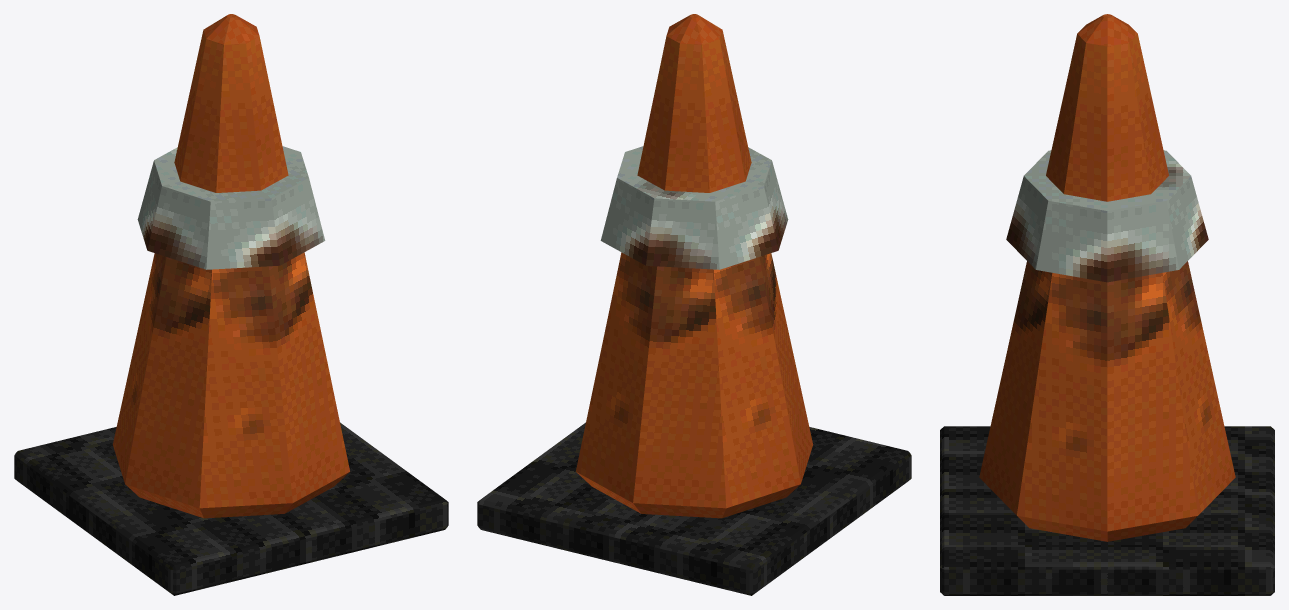
Rendered from prop_traffic_cone.glb.
3 renders of one model, left to right at view 1: azimuth 30°, elevation 25°; view 2: azimuth 150°, elevation 25°; view 3: azimuth 270°, elevation 25°, orthographic. The views are drawn at different scales.
Visible parts, largest first — view 1: prop_traffic_cone_mesh; view 2: prop_traffic_cone_mesh; view 3: prop_traffic_cone_mesh.
Part boxes in pixels (box(x1,y1,x2,y2)): prop_traffic_cone_mesh: box(14, 14, 448, 595); prop_traffic_cone_mesh: box(477, 14, 911, 595); prop_traffic_cone_mesh: box(940, 14, 1274, 595).
Size of the model in its own units: 0.38 by 0.64 by 0.38.
Materials: 3 (3 with a texture image).
